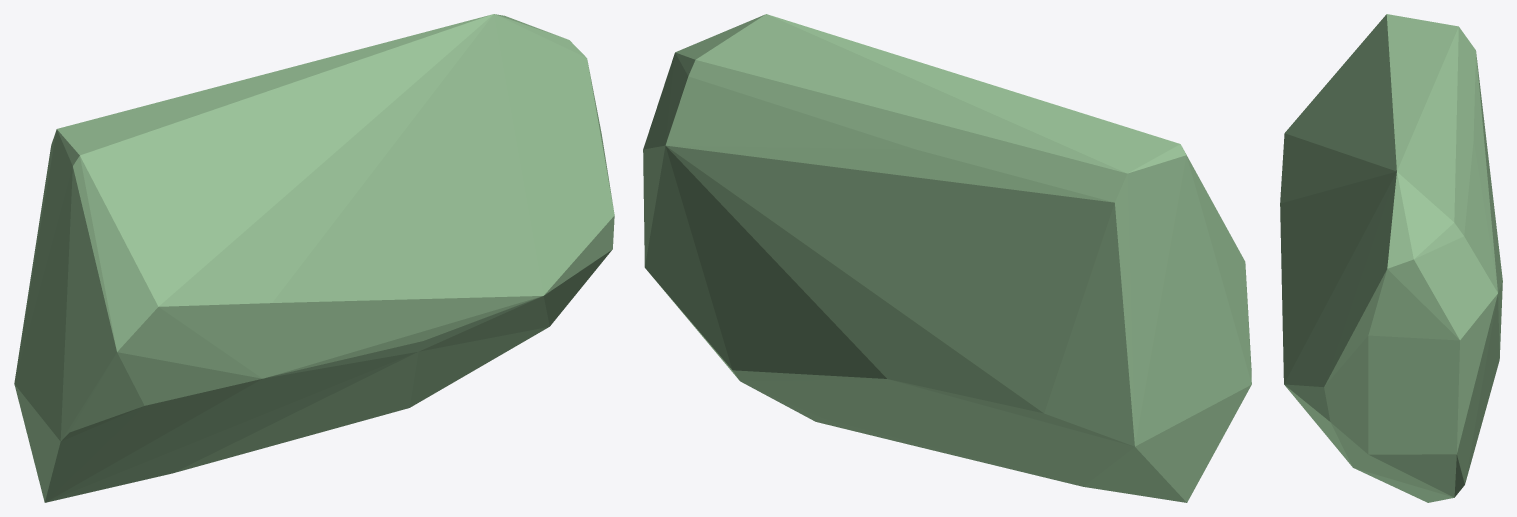
File: fuelSystem_intake_manifold_e01.glb
3 views of the same model, side by side, from view 1: azimuth 30°, elevation 25°; view 2: azimuth 150°, elevation 25°; view 3: azimuth 270°, elevation 25° (orthographic). The views are drawn at different scales.
Parts seen in each view (by area): view 1: geometry_0; view 2: geometry_0; view 3: geometry_0.
Part boxes in pixels (box(x1,y1,x2,y2)): geometry_0: box(14, 14, 614, 502); geometry_0: box(643, 14, 1251, 502); geometry_0: box(1280, 14, 1502, 502).
Size of the model in its own units: 0.4493 by 0.2998 by 0.1672.
